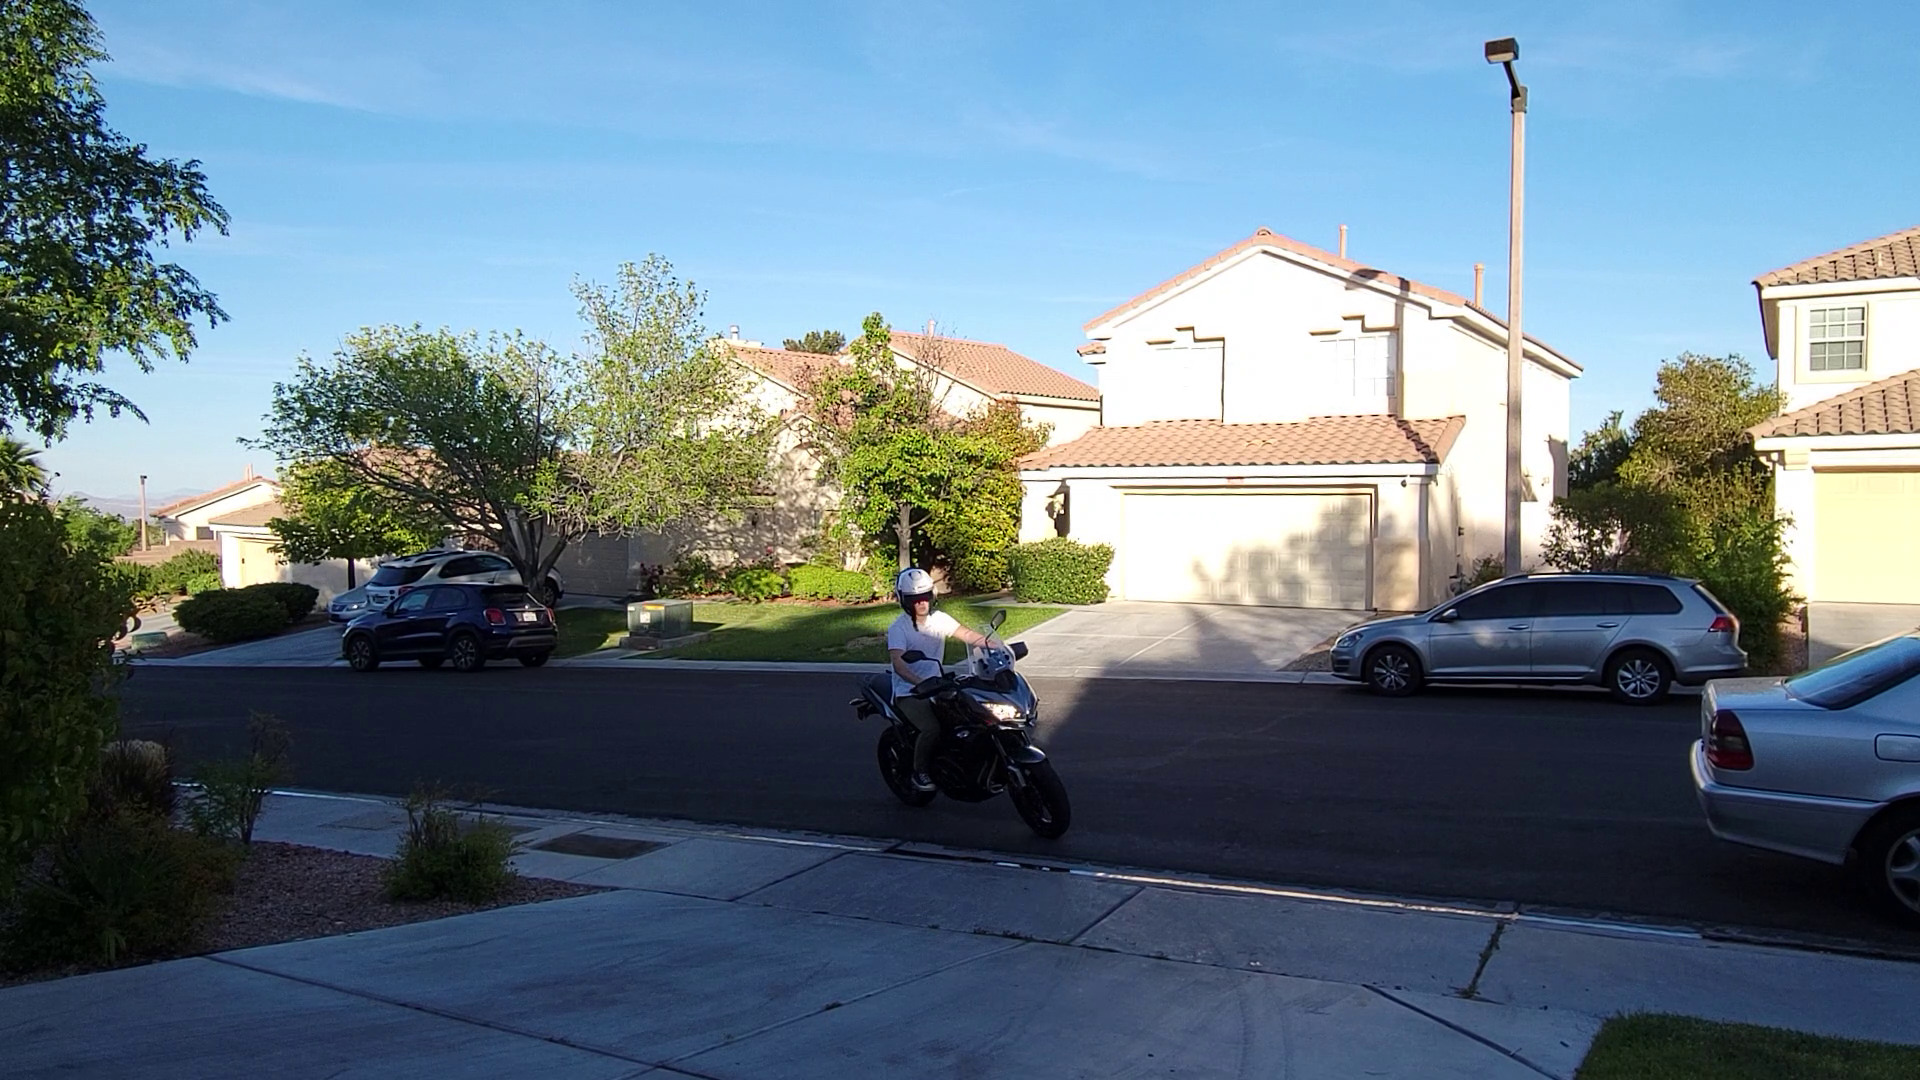my bike: (840, 560, 1077, 844)
